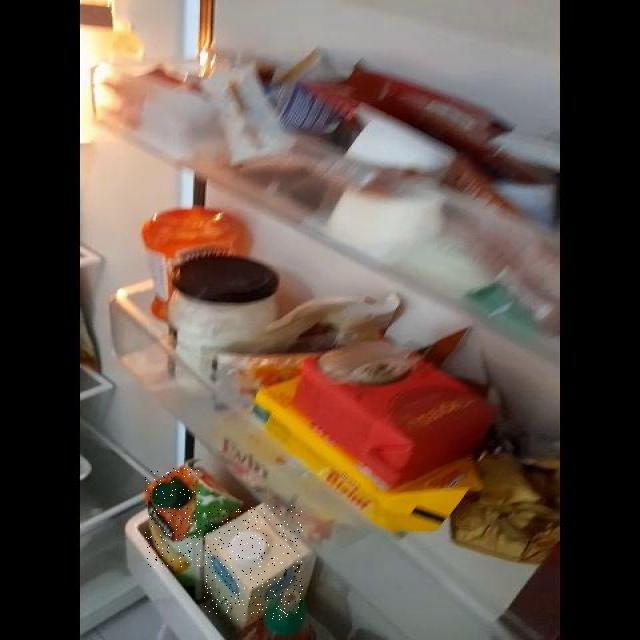juice: (145, 468, 201, 568)
milk: (204, 505, 303, 620)
